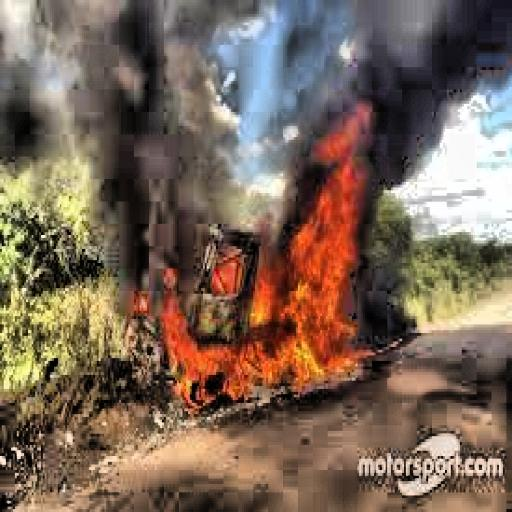fire: (259, 140, 378, 397), (132, 268, 257, 408)
